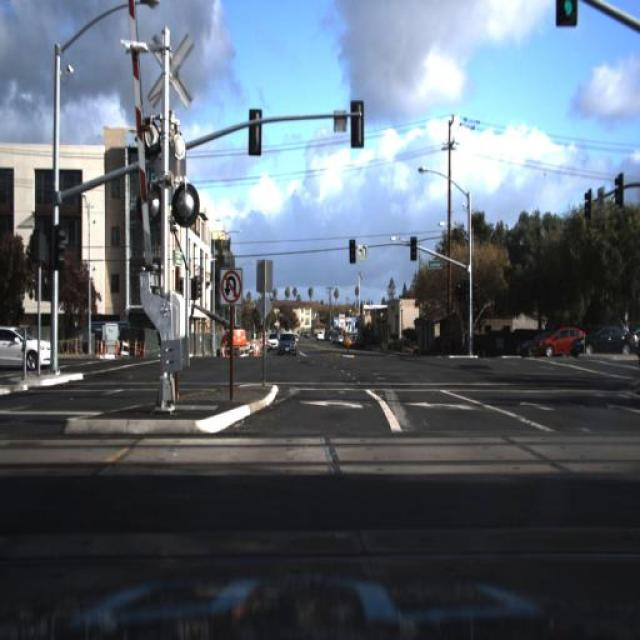car: (0, 323, 55, 366), (576, 321, 633, 352), (538, 325, 588, 355), (518, 328, 547, 358), (315, 318, 333, 342), (266, 326, 280, 356), (277, 329, 294, 351)
trafficLight-RedLeft: (407, 232, 418, 266), (462, 270, 472, 304), (348, 232, 357, 264)
